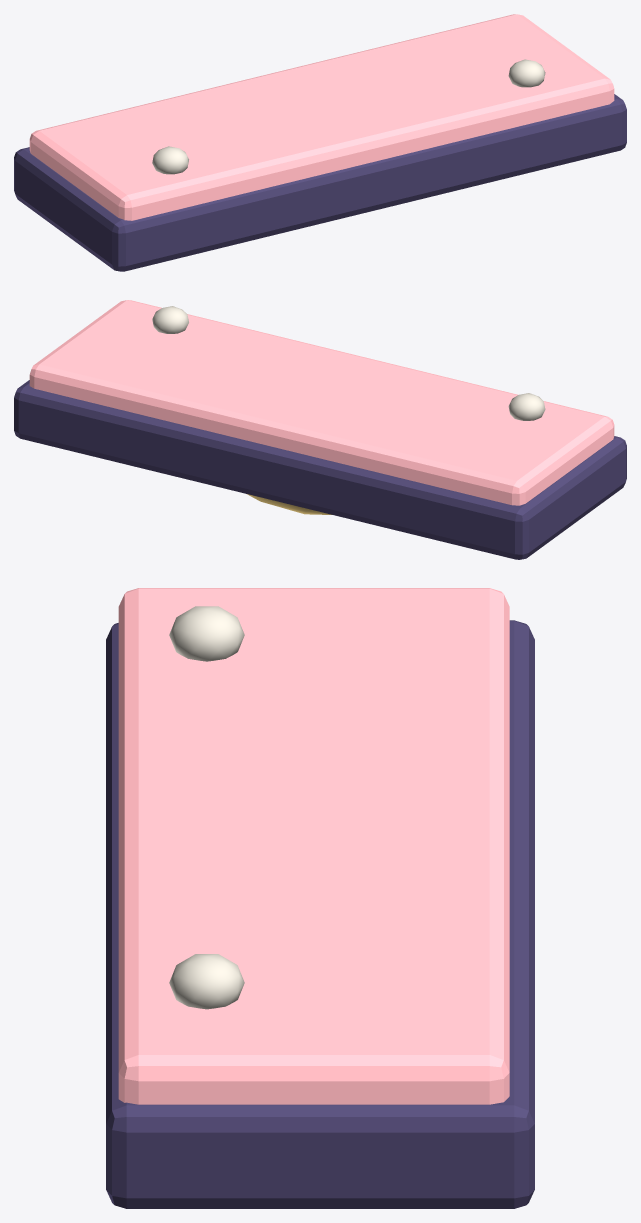
The model's file is pearl_music_bar_0.glb.
The picture shows the model from 3 angles, top to bottom: view 1: azimuth 30°, elevation 25°; view 2: azimuth 150°, elevation 25°; view 3: azimuth 270°, elevation 25°; orthographic projection. The views are drawn at different scales.
Visible parts, largest first — view 1: pearl_music_bar_0.001; view 2: pearl_music_bar_0.001; view 3: pearl_music_bar_0.001.
Boxes of the visible parts, x1,y1,x2,y2 form: pearl_music_bar_0.001: [14, 14, 626, 271]; pearl_music_bar_0.001: [14, 300, 626, 559]; pearl_music_bar_0.001: [106, 588, 534, 1208].
Bounding box in the file's own units: 7.53 × 1.7 × 2.72.
